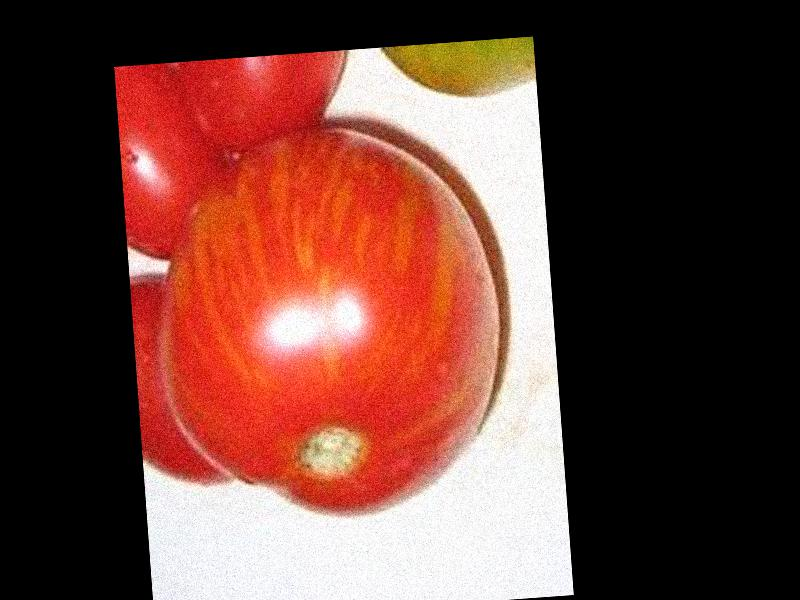Tomato: (142, 113, 513, 534)
